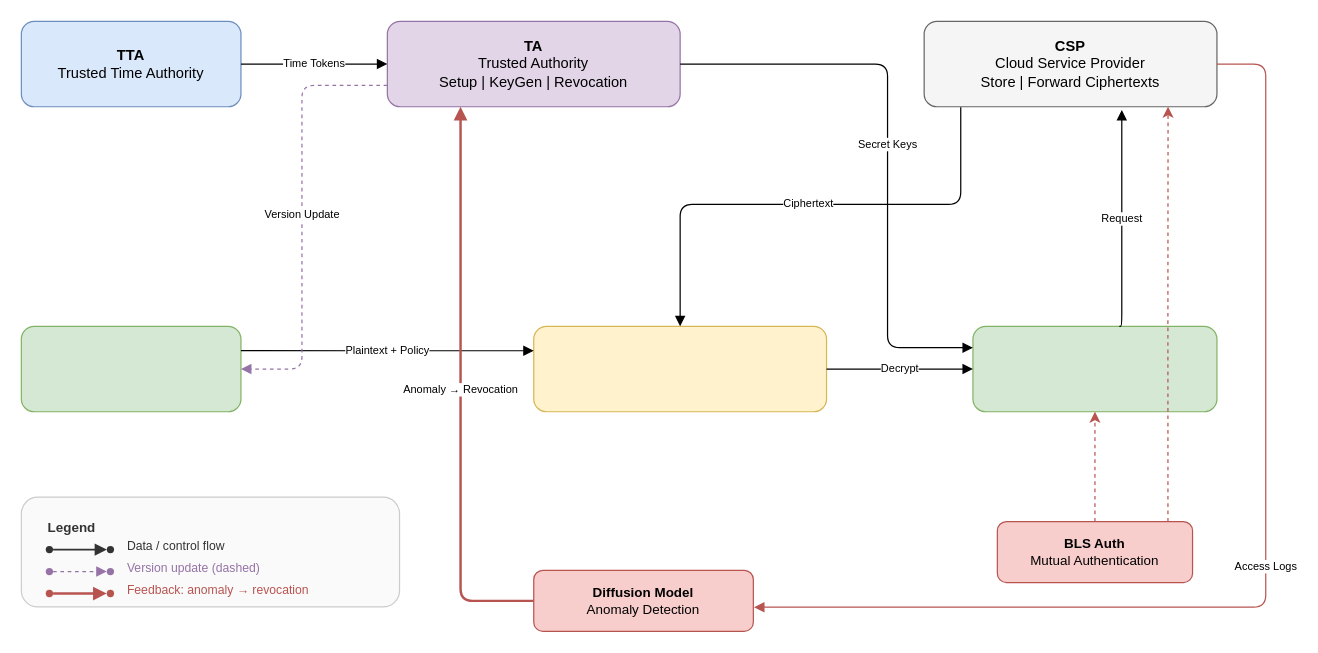
Image size: 1318x653. Some labels were removed from this diagram. Each missing label, with the centre of its shape:
DO Data Owner IIoT Devices | Digital Twins: the point at 130,368
DU Data User Monitor | Analytics: the point at 1094,368
T-CP-ABE Encrypt LSSS + Threshold + Time: the point at 680,368
